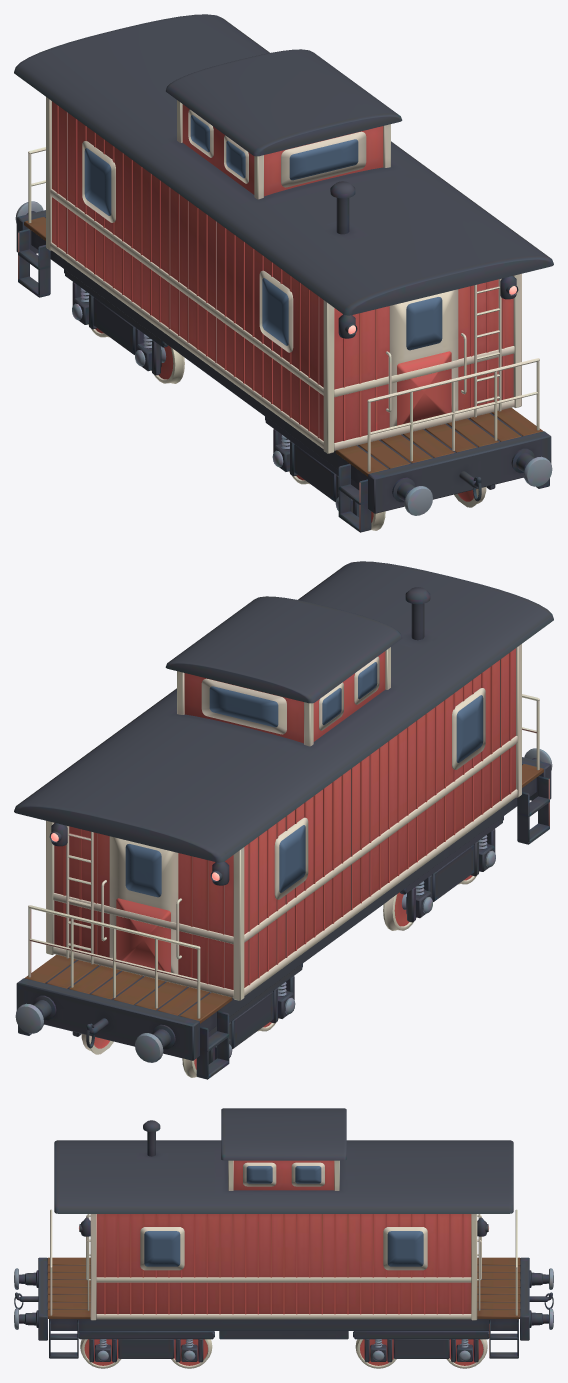
Rendered from caboose.glb.
3 renders of one model, top to bottom at view 1: azimuth 30°, elevation 25°; view 2: azimuth 150°, elevation 25°; view 3: azimuth 270°, elevation 25°, orthographic. The views are drawn at different scales.
Parts seen in each view (by area): view 1: caboose_body, caboose_window_glass; view 2: caboose_body, caboose_window_glass; view 3: caboose_body, caboose_window_glass.
Boxes of the visible parts, x1=… form: caboose_body: x1=14, y1=14, x2=553, y2=532; caboose_window_glass: x1=84, y1=115, x2=442, y2=350; caboose_body: x1=14, y1=561, x2=553, y2=1079; caboose_window_glass: x1=125, y1=662, x2=483, y2=897; caboose_body: x1=14, y1=1108, x2=553, y2=1368; caboose_window_glass: x1=144, y1=1166, x2=423, y2=1266.
Size of the model in its own units: 3.08 by 4.57 by 10.
3 materials, 1 textured.
